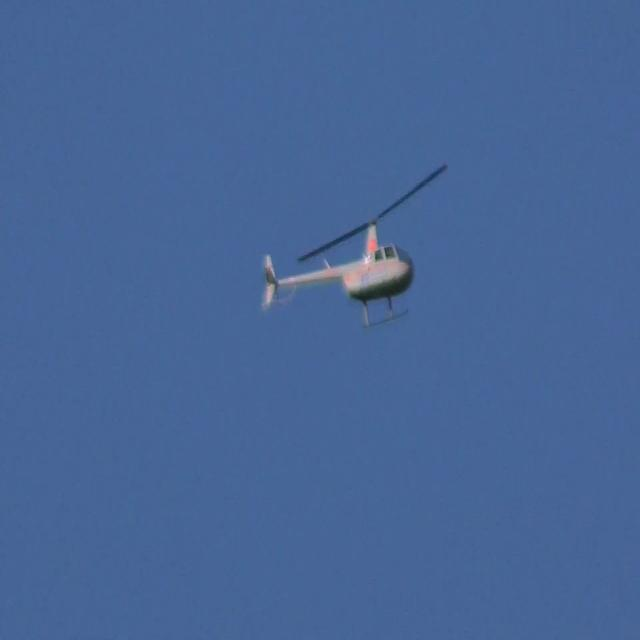CIV_HELO: (260, 218, 416, 331)
